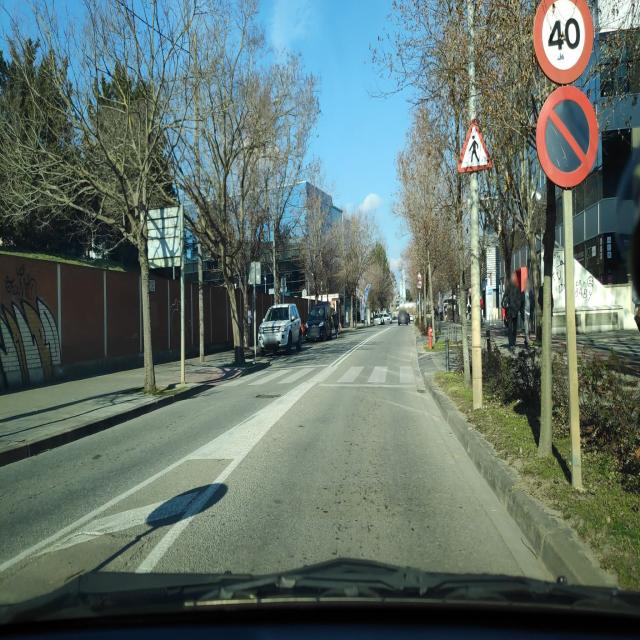forb_stopping: (541, 82, 600, 193)
